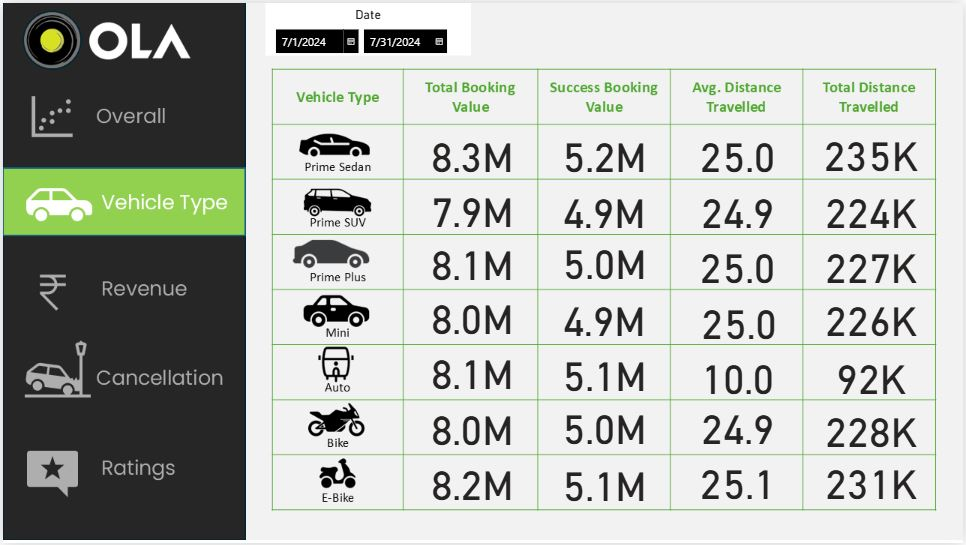

What the dashboard file says about the page in this screenshot:
{"tool":"powerbi","page":{"name":"Vehicle Type","canvas":[1280,720],"ordinal":1},"visuals":[{"type":"actionButton","box":[0,217.3,324.3,92.7],"z":0},{"type":"actionButton","box":[0,329.1,324.3,97.5],"z":1000},{"type":"actionButton","box":[0,434.6,324.3,97.5],"z":2000},{"type":"actionButton","box":[0,576.8,324.3,97.5],"z":3000},{"type":"actionButton","box":[0,105.4,324.3,111.8],"z":4000},{"type":"card","fields":{"Values":["Sum(July.Booking_Value)"]},"box":[535,161.7,178.3,73.3],"z":5000},{"type":"card","fields":{"Values":["Sum(July.Booking_Value)"]},"box":[536.7,235,178.3,73.3],"z":6000},{"type":"card","fields":{"Values":["Sum(July.Booking_Value)"]},"box":[535,305,178.3,73.3],"z":7000},{"type":"card","fields":{"Values":["Sum(July.Booking_Value)"]},"box":[535,378.3,178.3,73.3],"z":8000},{"type":"card","fields":{"Values":["Sum(July.Booking_Value)"]},"box":[535,451.7,178.3,73.3],"z":9000},{"type":"card","fields":{"Values":["Sum(July.Booking_Value)"]},"box":[535,525,178.3,73.3],"z":10000},{"type":"card","fields":{"Values":["Sum(July.Booking_Value)"]},"box":[535,600,178.3,73.3],"z":11000},{"type":"card","fields":{"Values":["Sum(July.Booking_Value)"]},"box":[712,236,178,74],"z":12000},{"type":"card","fields":{"Values":["Sum(July.Booking_Value)"]},"box":[712,306,178,72],"z":13000},{"type":"card","fields":{"Values":["Sum(July.Booking_Value)"]},"box":[712,380,178,74],"z":14000},{"type":"card","fields":{"Values":["Sum(July.Booking_Value)"]},"box":[712,454,178,74],"z":15000},{"type":"card","fields":{"Values":["Sum(July.Booking_Value)"]},"box":[712,524,178,74],"z":16000},{"type":"card","fields":{"Values":["Sum(July.Booking_Value)"]},"box":[712,600,178,74],"z":17000},{"type":"card","fields":{"Values":["Sum(July.Booking_Value)"]},"box":[712,162,178,74],"z":18000},{"type":"card","fields":{"Values":["Avg(July.Ride_Distance)"]},"box":[890,162,178,74],"z":19000},{"type":"card","fields":{"Values":["Avg(July.Ride_Distance)"]},"box":[890,236,178,74],"z":20000},{"type":"card","fields":{"Values":["Avg(July.Ride_Distance)"]},"box":[890,310,178,74],"z":21000},{"type":"card","fields":{"Values":["Avg(July.Ride_Distance)"]},"box":[892,384,178,74],"z":22000},{"type":"card","fields":{"Values":["Avg(July.Ride_Distance)"]},"box":[890,458,178,74],"z":23000},{"type":"card","fields":{"Values":["Avg(July.Ride_Distance)"]},"box":[890,524,178,74],"z":24000},{"type":"card","fields":{"Values":["Avg(July.Ride_Distance)"]},"box":[890,598,178,74],"z":25000},{"type":"card","fields":{"Values":["Sum(July.Ride_Distance)"]},"box":[1068,160,178,74],"z":26000},{"type":"card","fields":{"Values":["Sum(July.Ride_Distance)"]},"box":[1068,236,178,74],"z":27000},{"type":"card","fields":{"Values":["Sum(July.Ride_Distance)"]},"box":[1068,310,178,74],"z":28000},{"type":"card","fields":{"Values":["Sum(July.Ride_Distance)"]},"box":[1068,380,178,74],"z":29000},{"type":"card","fields":{"Values":["Sum(July.Ride_Distance)"]},"box":[1068,458,178,74],"z":30000},{"type":"card","fields":{"Values":["Sum(July.Ride_Distance)"]},"box":[1068,528,178,76],"z":31000},{"type":"card","fields":{"Values":["Sum(July.Ride_Distance)"]},"box":[1068,598,178,74],"z":32000},{"type":"slicer","title":"Date","fields":{"Values":["July.Date"]},"box":[350,0,274,70],"z":33000}]}

Visuals, with their boxes on the page's 1280x720 design canvas (x1, y1, x2, y2). These are canvas units, not pixel positions in the 966x545 screenshot, which may show the page scaled, cropped or inside an application window:
actionButton: (0,217,324,310)
actionButton: (0,329,324,427)
actionButton: (0,435,324,532)
actionButton: (0,577,324,674)
actionButton: (0,105,324,217)
card - Sum(July.Booking_Value): (535,162,713,235)
card - Sum(July.Booking_Value): (537,235,715,308)
card - Sum(July.Booking_Value): (535,305,713,378)
card - Sum(July.Booking_Value): (535,378,713,452)
card - Sum(July.Booking_Value): (535,452,713,525)
card - Sum(July.Booking_Value): (535,525,713,598)
card - Sum(July.Booking_Value): (535,600,713,673)
card - Sum(July.Booking_Value): (712,236,890,310)
card - Sum(July.Booking_Value): (712,306,890,378)
card - Sum(July.Booking_Value): (712,380,890,454)
card - Sum(July.Booking_Value): (712,454,890,528)
card - Sum(July.Booking_Value): (712,524,890,598)
card - Sum(July.Booking_Value): (712,600,890,674)
card - Sum(July.Booking_Value): (712,162,890,236)
card - Avg(July.Ride_Distance): (890,162,1068,236)
card - Avg(July.Ride_Distance): (890,236,1068,310)
card - Avg(July.Ride_Distance): (890,310,1068,384)
card - Avg(July.Ride_Distance): (892,384,1070,458)
card - Avg(July.Ride_Distance): (890,458,1068,532)
card - Avg(July.Ride_Distance): (890,524,1068,598)
card - Avg(July.Ride_Distance): (890,598,1068,672)
card - Sum(July.Ride_Distance): (1068,160,1246,234)
card - Sum(July.Ride_Distance): (1068,236,1246,310)
card - Sum(July.Ride_Distance): (1068,310,1246,384)
card - Sum(July.Ride_Distance): (1068,380,1246,454)
card - Sum(July.Ride_Distance): (1068,458,1246,532)
card - Sum(July.Ride_Distance): (1068,528,1246,604)
card - Sum(July.Ride_Distance): (1068,598,1246,672)
"Date" slicer: (350,0,624,70)
